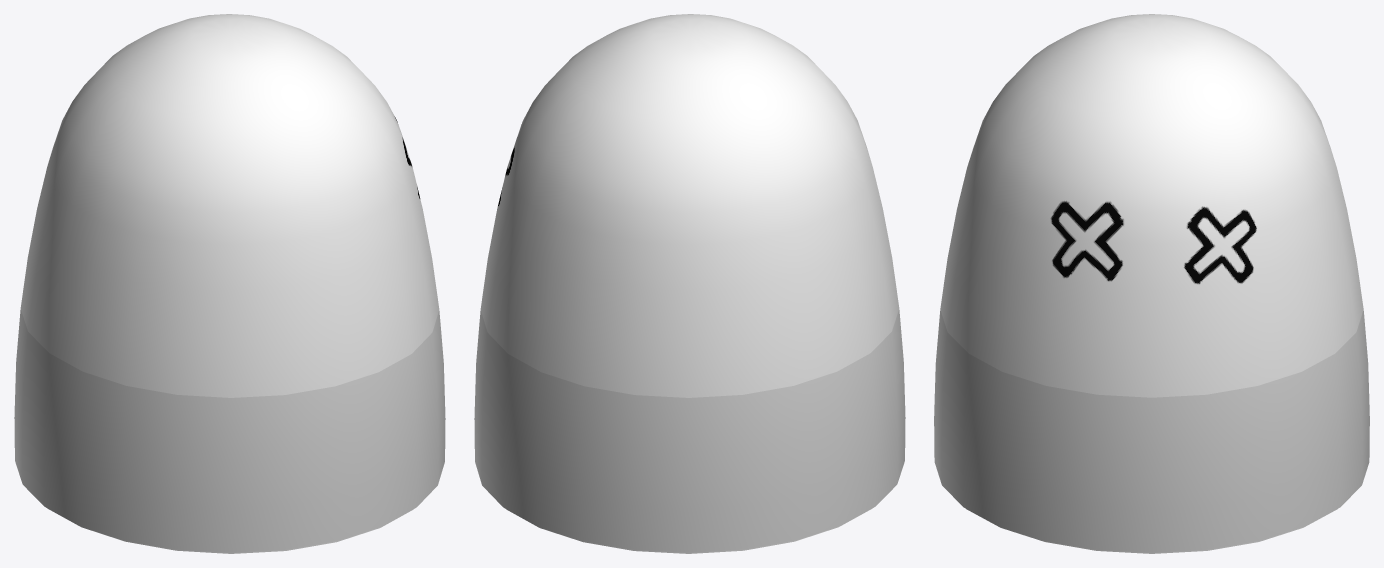
Rendered from Ghost.fbx.
3 views of the same model, side by side, from view 1: azimuth 30°, elevation 25°; view 2: azimuth 150°, elevation 25°; view 3: azimuth 270°, elevation 25° (orthographic).
Visible parts, largest first — view 1: ghost; view 2: ghost; view 3: ghost.
Part boxes in pixels (x1,y1,x2,y2): ghost: (14,14,445,553); ghost: (474,14,905,553); ghost: (934,14,1369,553).
Bounding box in the file's own units: 90.95 × 101 × 92.03.
